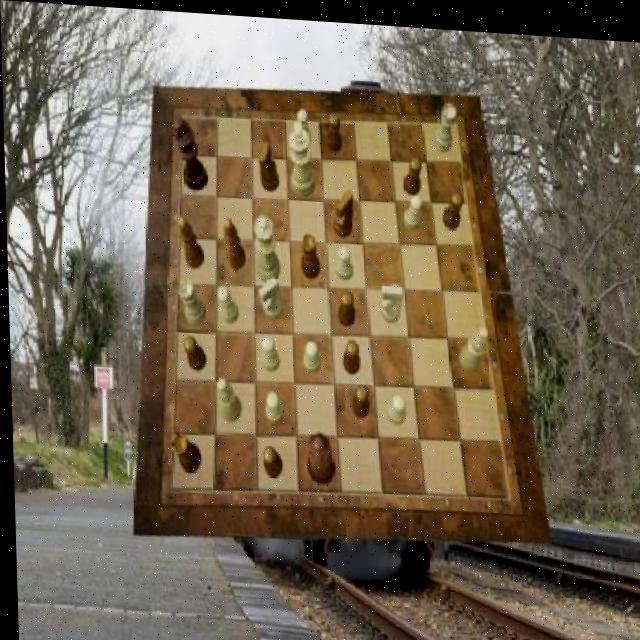bishop: (177, 214, 203, 268), (221, 214, 245, 268)
black-bishop: (172, 115, 207, 189)
black-king: (331, 186, 353, 235), (257, 140, 278, 190)
black-knight: (441, 186, 463, 226), (180, 334, 204, 369), (403, 152, 422, 190), (325, 108, 342, 147), (340, 334, 358, 370), (335, 286, 353, 322), (260, 442, 280, 474), (349, 379, 367, 414)
black-pawn: (303, 428, 332, 482)
black-queen: (169, 431, 197, 473), (300, 228, 318, 274)
black-rook: (455, 319, 486, 366), (214, 375, 239, 421)
white-bishop: (287, 117, 313, 192)
white-king: (256, 271, 281, 315), (379, 279, 402, 319)
white-knight: (215, 283, 236, 322), (402, 189, 422, 226), (259, 332, 278, 369), (383, 389, 403, 421), (293, 104, 309, 144), (263, 389, 282, 422), (333, 240, 350, 276), (301, 337, 319, 370)
white-pawn: (252, 212, 278, 281)
white-queen: (176, 278, 204, 323), (432, 97, 457, 147)
